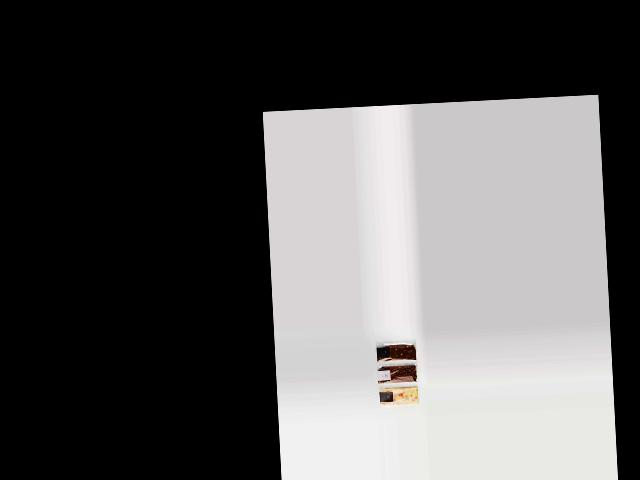chocolate: (376, 340, 418, 360)
